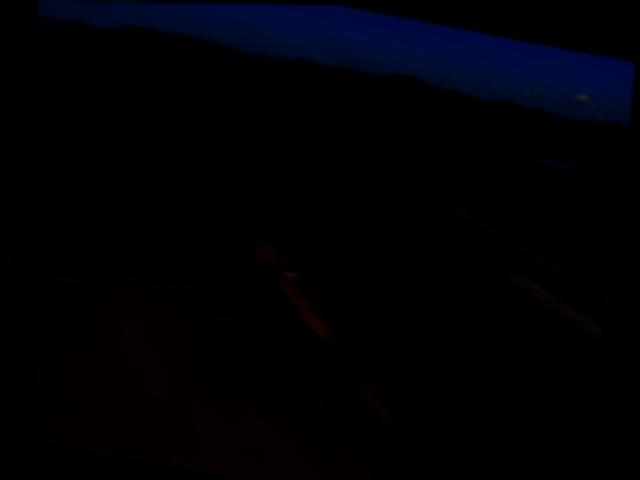uav: (279, 260, 310, 286)
